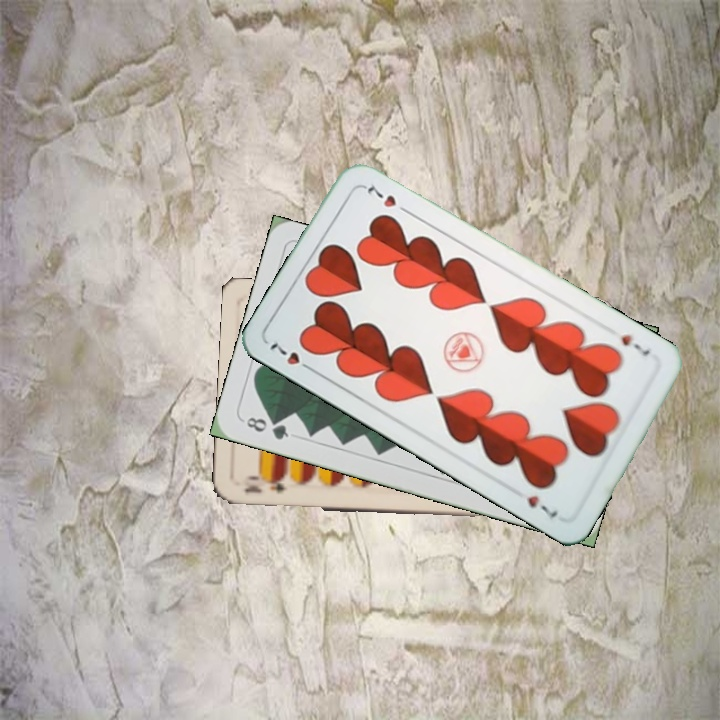E10: (239, 472, 290, 496)
G8: (242, 413, 292, 443)
H7: (266, 337, 318, 376), (617, 330, 653, 358)
